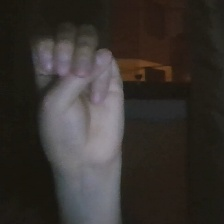M: (21, 17, 144, 176)
